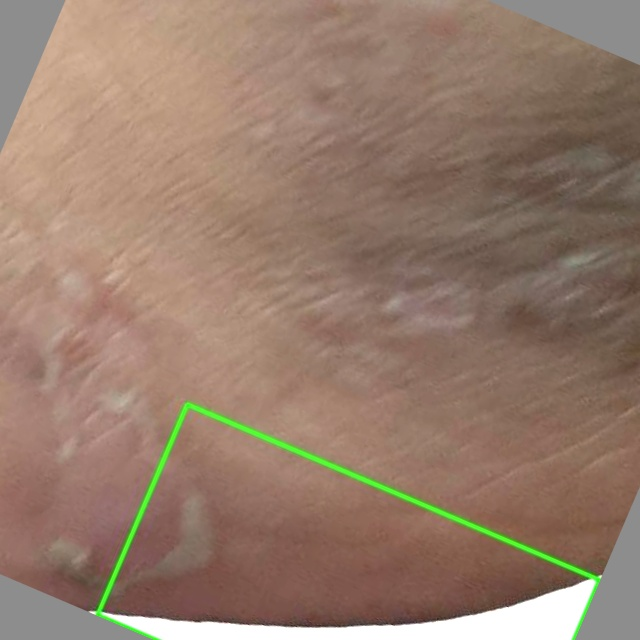Eczema: (97, 404, 599, 639)
